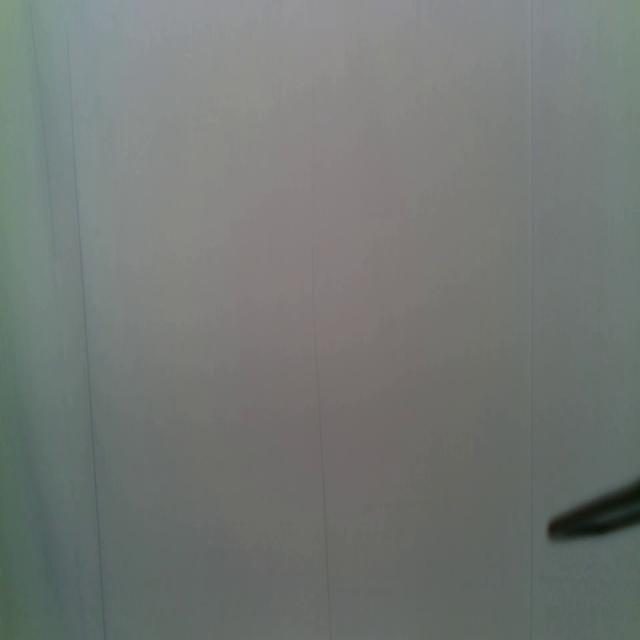crease: (27, 0, 86, 631), (65, 22, 109, 638), (309, 70, 334, 640), (528, 0, 536, 640)
